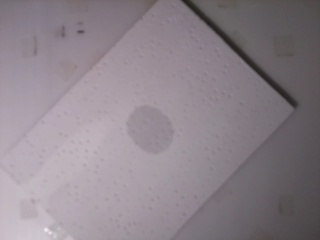Water_detected: (127, 115, 167, 153)
